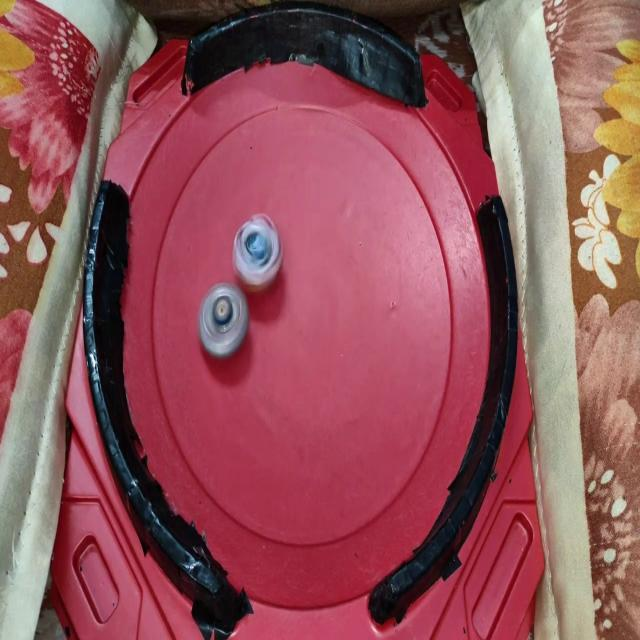Beyblade: (232, 214, 282, 288), (198, 284, 248, 358)
